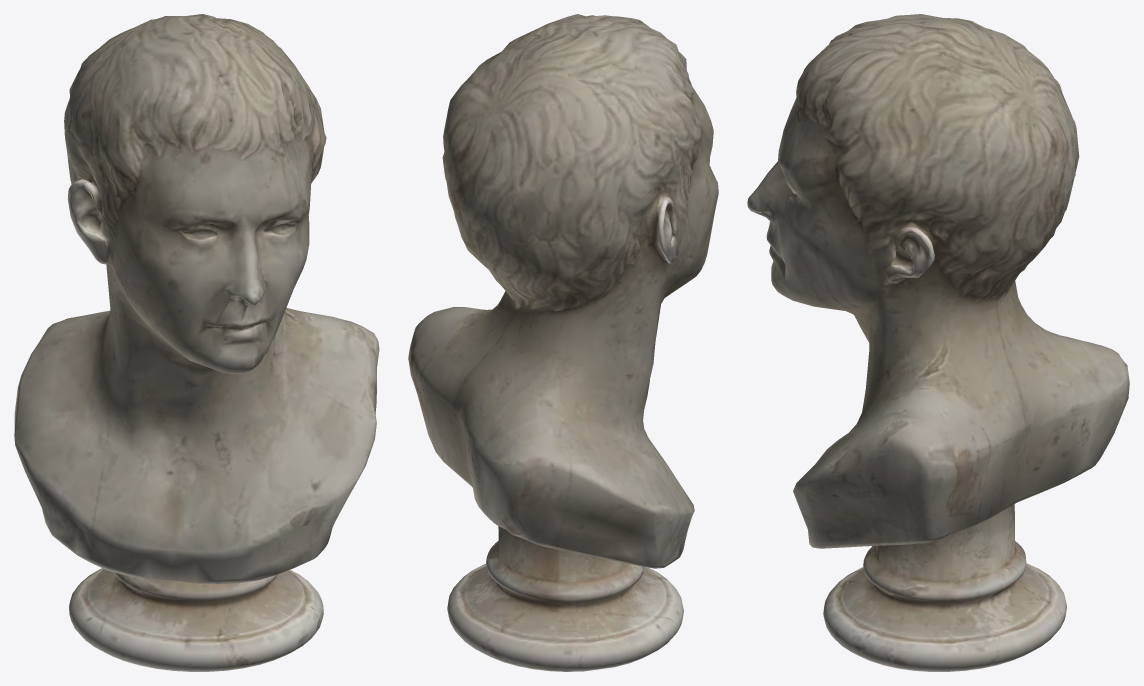
File: marble_bust_01.glb
3 views of the same model, side by side, from view 1: azimuth 30°, elevation 25°; view 2: azimuth 150°, elevation 25°; view 3: azimuth 270°, elevation 25° (orthographic). The views are drawn at different scales.
Parts seen in each view (by area): view 1: marble_bust_01; view 2: marble_bust_01; view 3: marble_bust_01.
Boxes of the visible parts, <box> form: marble_bust_01: <box>14,14,379,671</box>; marble_bust_01: <box>408,14,718,671</box>; marble_bust_01: <box>747,14,1129,671</box>.
Bounding box in the file's own units: 0.2718 × 0.5149 × 0.2997.
1 material, 1 textured.
